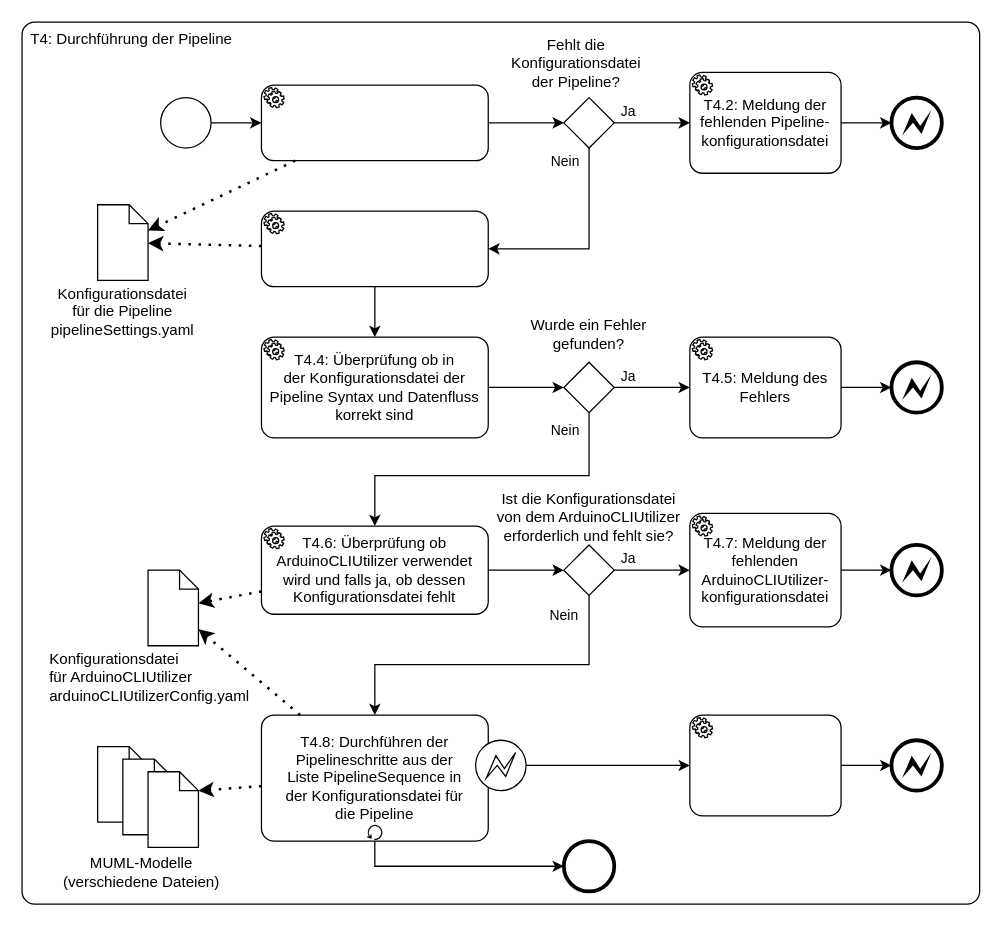
The diagram is 1002 pixels wide and 926 high, and some of its shapes have lost their labels. Here are the shapes that lost their labels. From the top down, the centre of each, then its label:
point (374, 122): T4.1: Überprüfung ob die Konfigurationsdatei für die Pipeline fehlt
point (374, 248): T4.3: Lesen der Konfigurationsdatei der Pipeline
point (765, 765): T4.9: Meldung des Fehlers oder Abbruchgrundes
